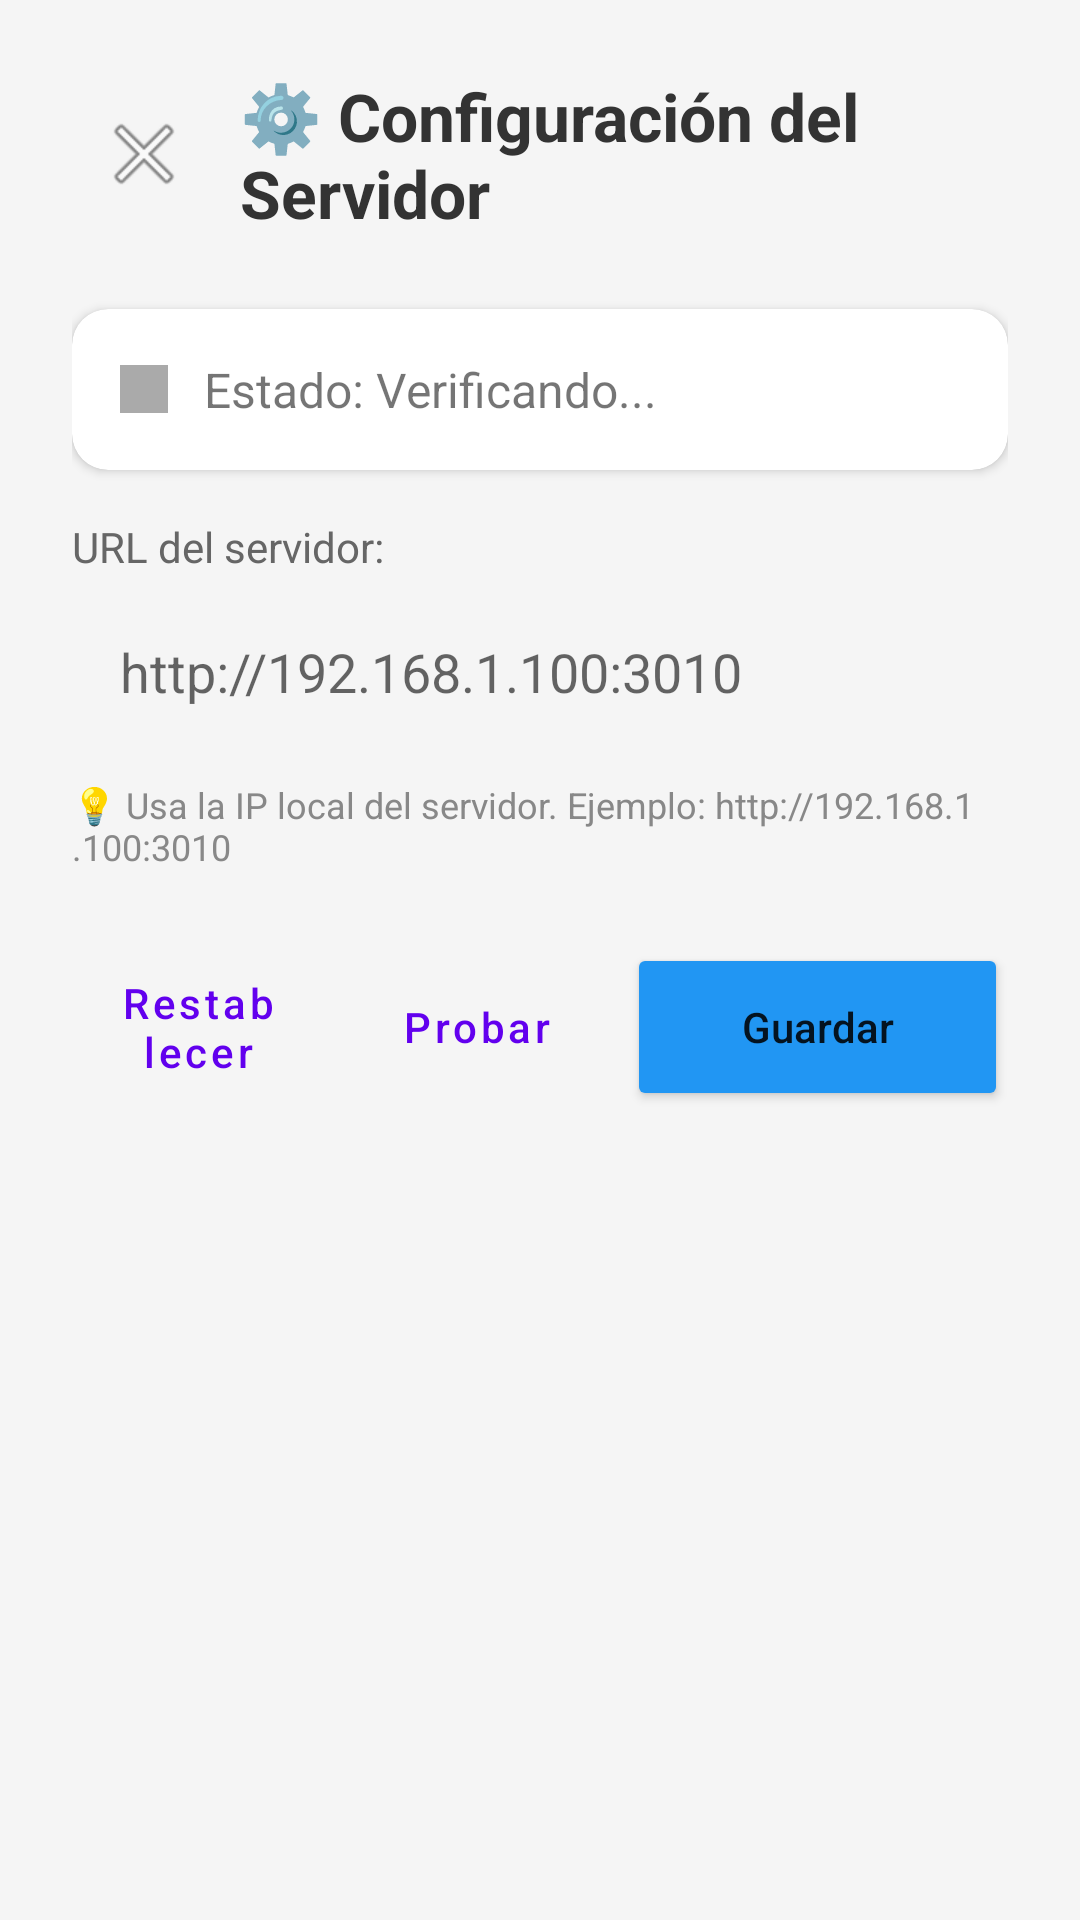

Where to tap for icons on this 1080px x 1920px app screen, as (x=x, y=y):
Volver: (x=144, y=154)
